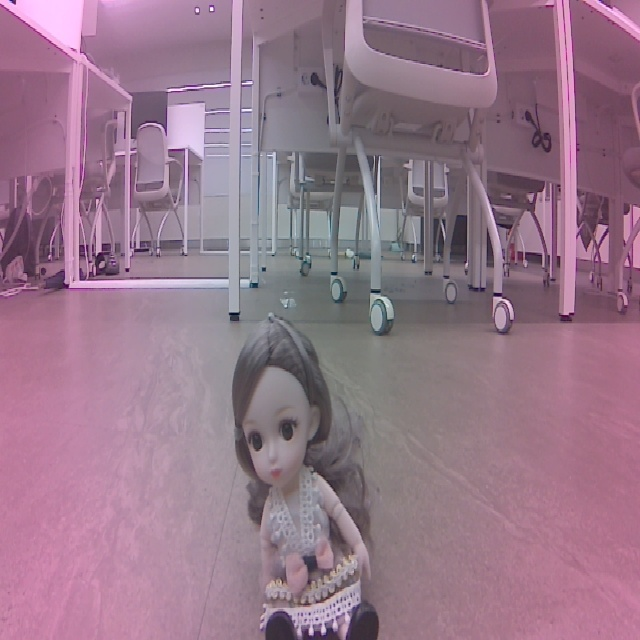장애물: (265, 280, 493, 600)
